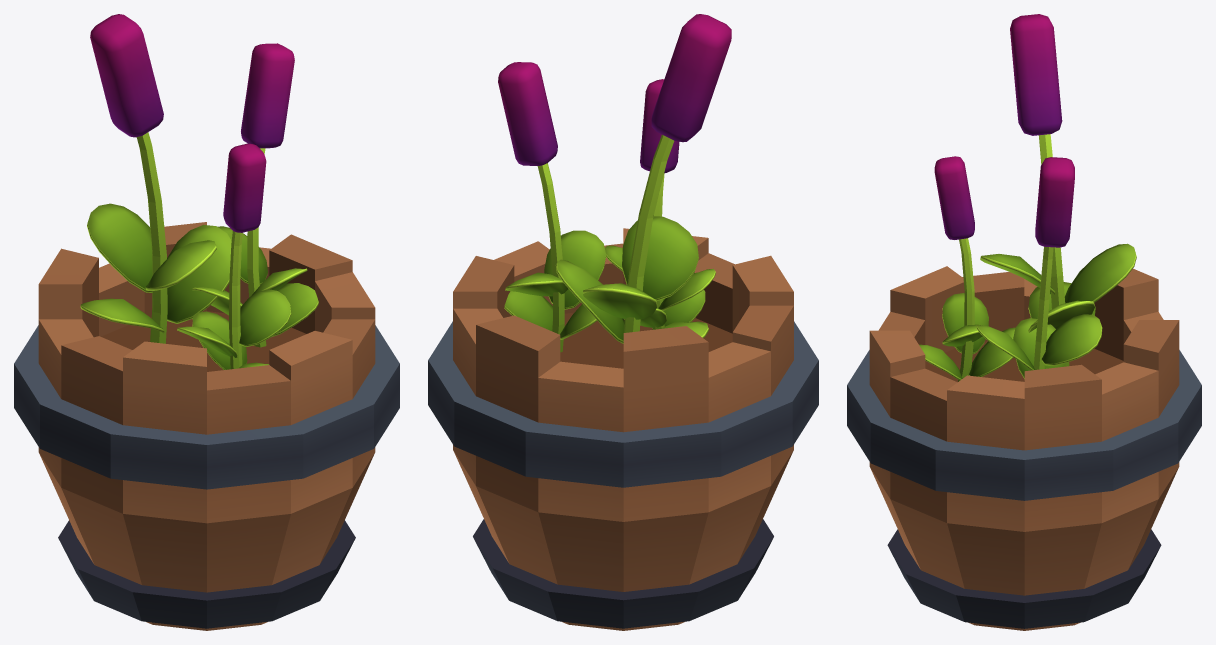
File: mt_prop_plant04.fbx
3 renders of one model, left to right at view 1: azimuth 30°, elevation 25°; view 2: azimuth 150°, elevation 25°; view 3: azimuth 270°, elevation 25°, orthographic. The views are drawn at different scales.
Visible parts, largest first — view 1: prop_plant04; view 2: prop_plant04; view 3: prop_plant04.
Boxes of the visible parts, x1=… form: prop_plant04: x1=14, y1=14, x2=399, y2=630; prop_plant04: x1=428, y1=14, x2=818, y2=630; prop_plant04: x1=847, y1=14, x2=1201, y2=630.
Size of the model in its own units: 89.65 by 149 by 89.65.
